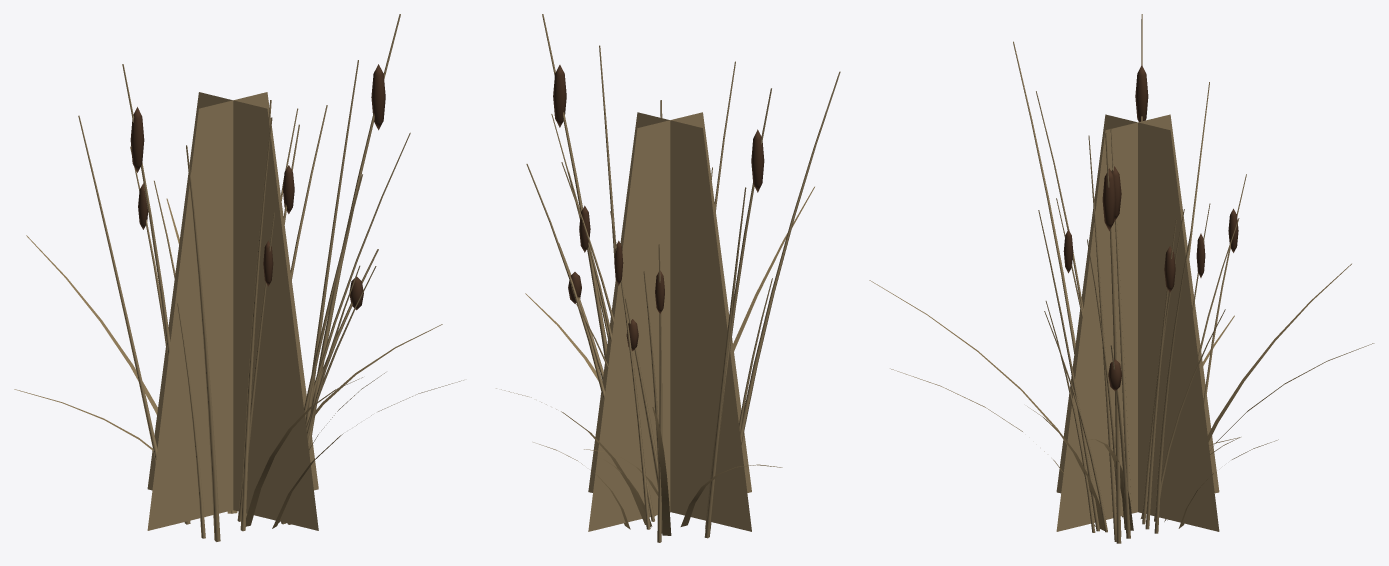
The model's file is reed_clump_1.glb.
The picture shows the model from 3 angles, left to right: view 1: azimuth 30°, elevation 25°; view 2: azimuth 150°, elevation 25°; view 3: azimuth 270°, elevation 25°; orthographic projection. The views are drawn at different scales.
Parts seen in each view (by area): view 1: ReedClump_Far, ReedClump_Stalks_1, ReedClump_Stalks_2, ReedClump_Stalks_0, ReedClump_Heads_1, ReedClump_Blades_1, ReedClump_Heads_2, ReedClump_Heads_0, ReedClump_Blades_2, ReedClump_Blades_0; view 2: ReedClump_Far, ReedClump_Stalks_1, ReedClump_Stalks_0, ReedClump_Stalks_2, ReedClump_Blades_1, ReedClump_Heads_1, ReedClump_Blades_0, ReedClump_Heads_0, ReedClump_Heads_2, ReedClump_Blades_2; view 3: ReedClump_Far, ReedClump_Stalks_2, ReedClump_Stalks_0, ReedClump_Stalks_1, ReedClump_Heads_1, ReedClump_Blades_0, ReedClump_Blades_1, ReedClump_Heads_2, ReedClump_Heads_0.
Boxes of the visible parts, x1,y1,x2,y2 form: ReedClump_Far: [147, 92, 318, 530]; ReedClump_Stalks_1: [122, 64, 360, 541]; ReedClump_Stalks_2: [177, 14, 400, 538]; ReedClump_Stalks_0: [78, 115, 410, 524]; ReedClump_Heads_1: [130, 107, 294, 286]; ReedClump_Blades_1: [26, 235, 362, 526]; ReedClump_Heads_2: [371, 64, 385, 130]; ReedClump_Heads_0: [138, 183, 363, 310]; ReedClump_Blades_2: [14, 380, 463, 528]; ReedClump_Blades_0: [166, 198, 442, 523]; ReedClump_Far: [588, 112, 751, 531]; ReedClump_Stalks_1: [568, 61, 840, 529]; ReedClump_Stalks_0: [551, 114, 746, 542]; ReedClump_Stalks_2: [526, 14, 772, 516]; ReedClump_Blades_1: [605, 186, 814, 535]; ReedClump_Heads_1: [579, 129, 764, 285]; ReedClump_Blades_0: [496, 293, 651, 529]; ReedClump_Heads_0: [568, 270, 664, 351]; ReedClump_Heads_2: [553, 65, 566, 127]; ReedClump_Blades_2: [584, 449, 782, 526]; ReedClump_Far: [1056, 114, 1219, 531]; ReedClump_Stalks_2: [1044, 128, 1191, 543]; ReedClump_Stalks_0: [1038, 82, 1246, 538]; ReedClump_Stalks_1: [1013, 14, 1210, 532]; ReedClump_Heads_1: [1063, 65, 1205, 292]; ReedClump_Blades_0: [1027, 343, 1374, 530]; ReedClump_Blades_1: [869, 263, 1351, 521]; ReedClump_Heads_2: [1102, 166, 1121, 230]; ReedClump_Heads_0: [1108, 208, 1238, 390].
Size of what is drawn, in the model's own units: 1.43 by 1.86 by 1.88.
